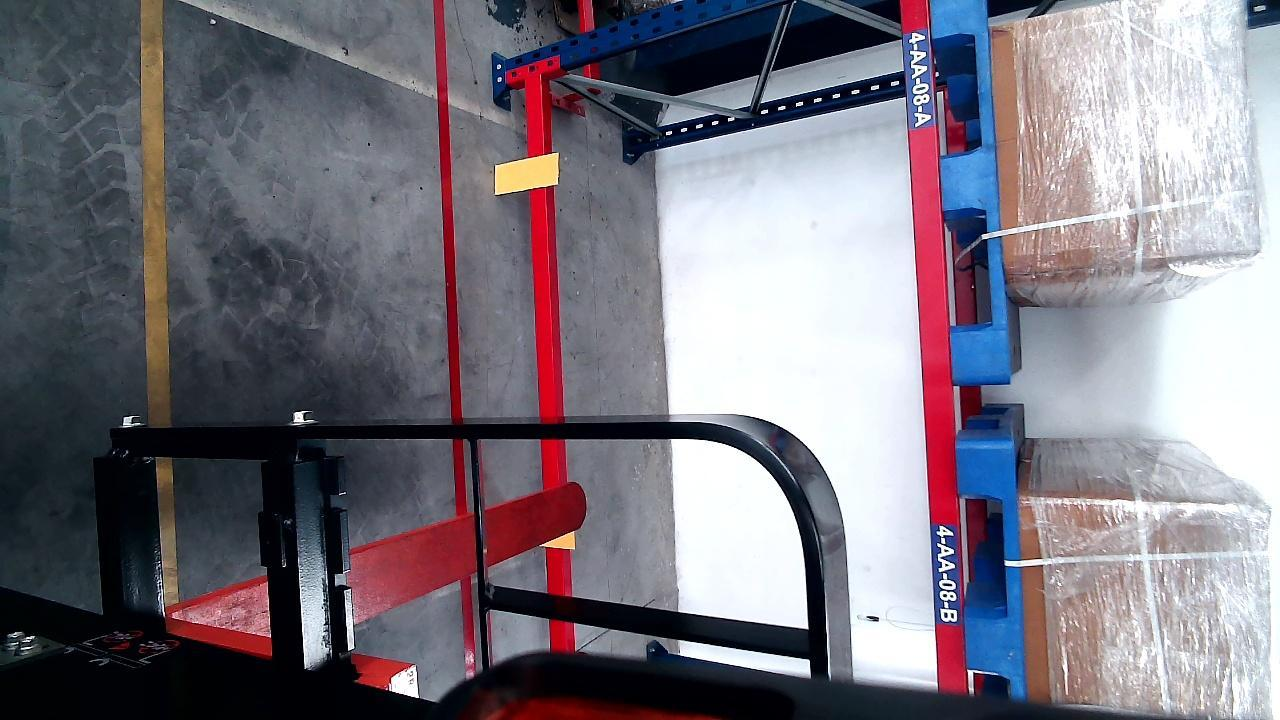red_line: (429, 0, 476, 682)
yellow_line: (142, 0, 178, 608)
